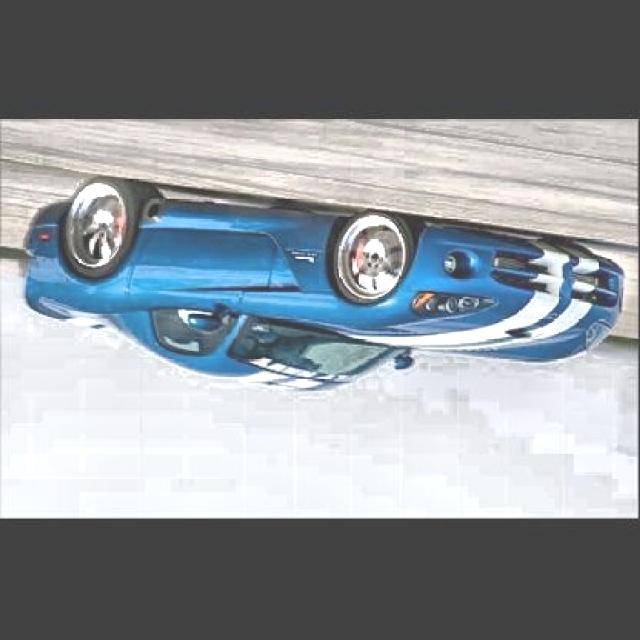blue: (0, 182, 635, 419)
